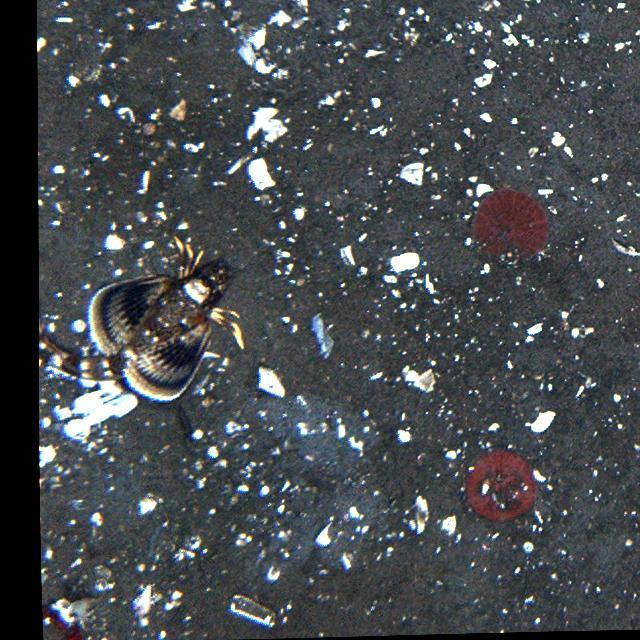roundfish: (44, 236, 246, 412)
